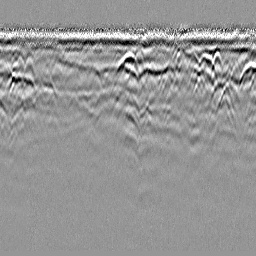cavity: (115, 50, 141, 74)
